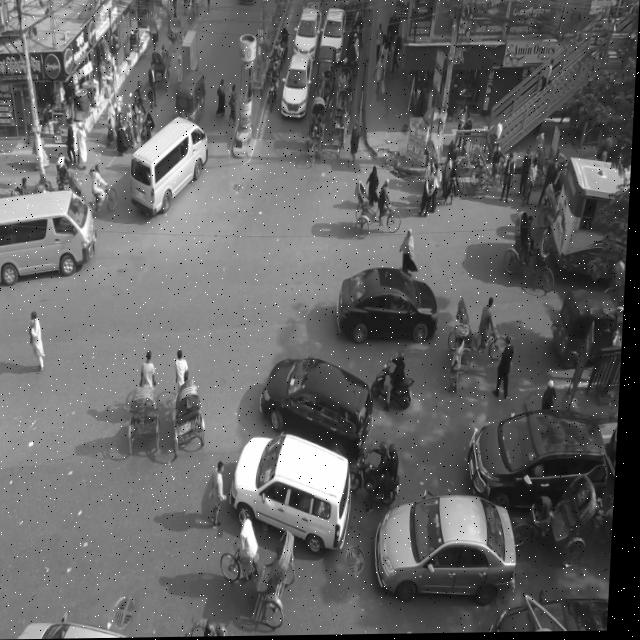cng: (171, 70, 212, 139)
rikshaw: (213, 510, 312, 623), (520, 473, 608, 564), (343, 157, 405, 256), (167, 341, 216, 466), (454, 279, 520, 367), (120, 349, 171, 457), (508, 199, 560, 289), (419, 130, 464, 199), (300, 85, 330, 177), (473, 142, 511, 203), (329, 83, 360, 149)
